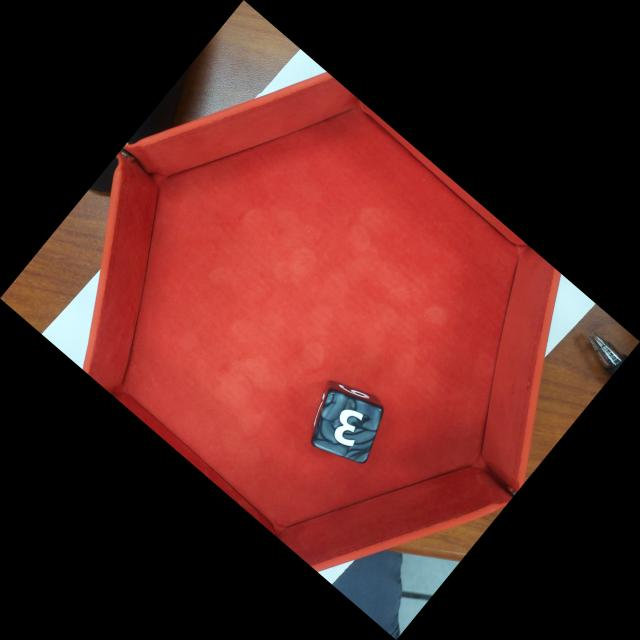dice: (308, 386, 387, 468)
